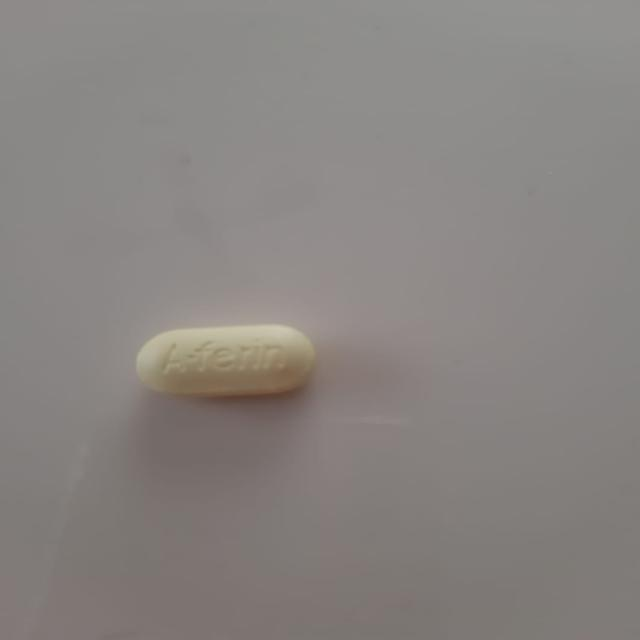pills: (111, 308, 338, 408)
